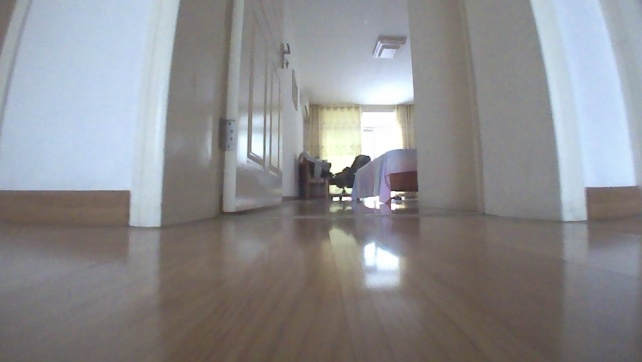bed1: (348, 146, 421, 206)
door: (122, 0, 290, 231)
